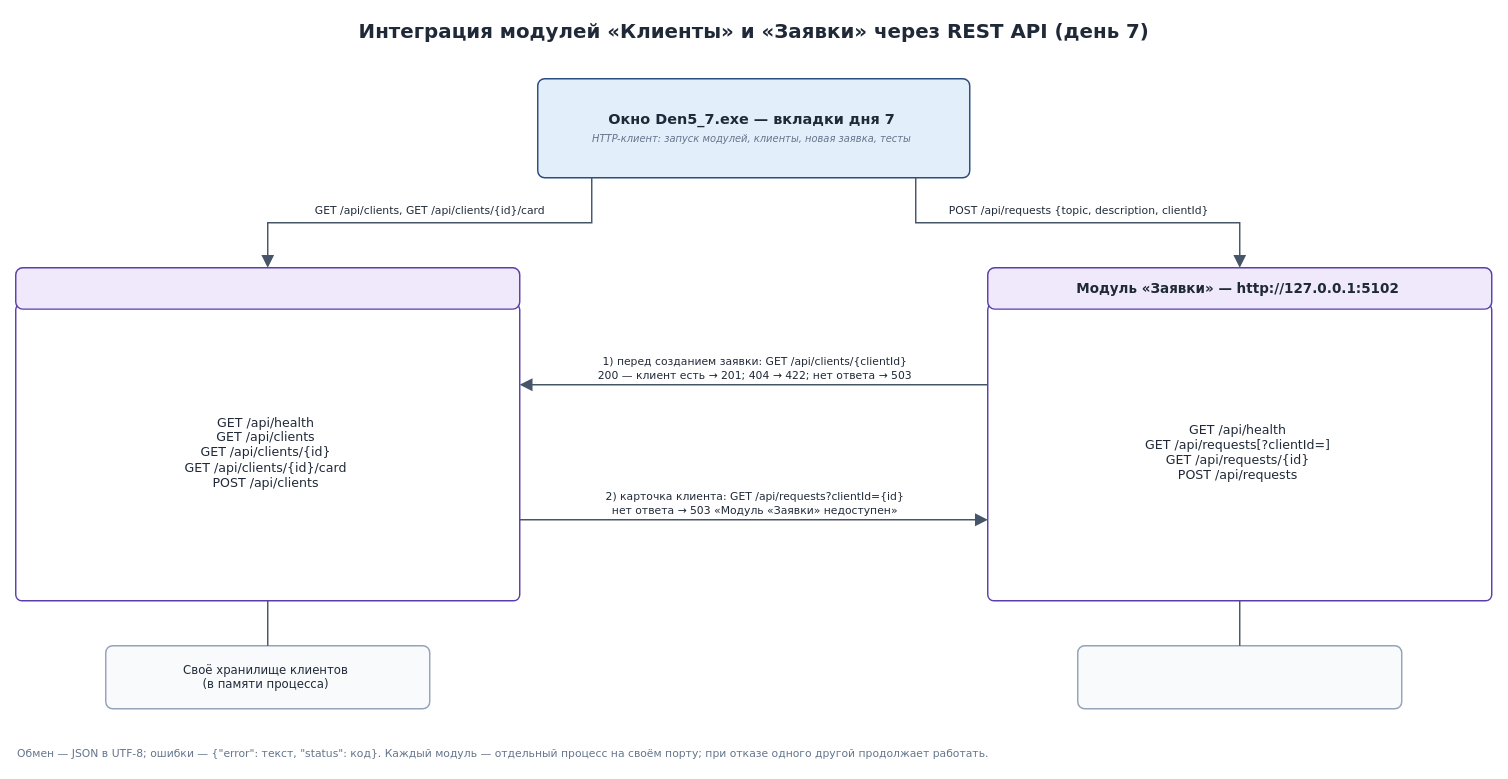
Image size: 1508x779. Some labels were removed from this diagram. Each missing label, with the box of its shape:
Модуль «Клиенты» — http://127.0.0.1:5101: (15, 267, 520, 309)
Своё хранилище заявок (в памяти процесса): (1077, 645, 1402, 709)
